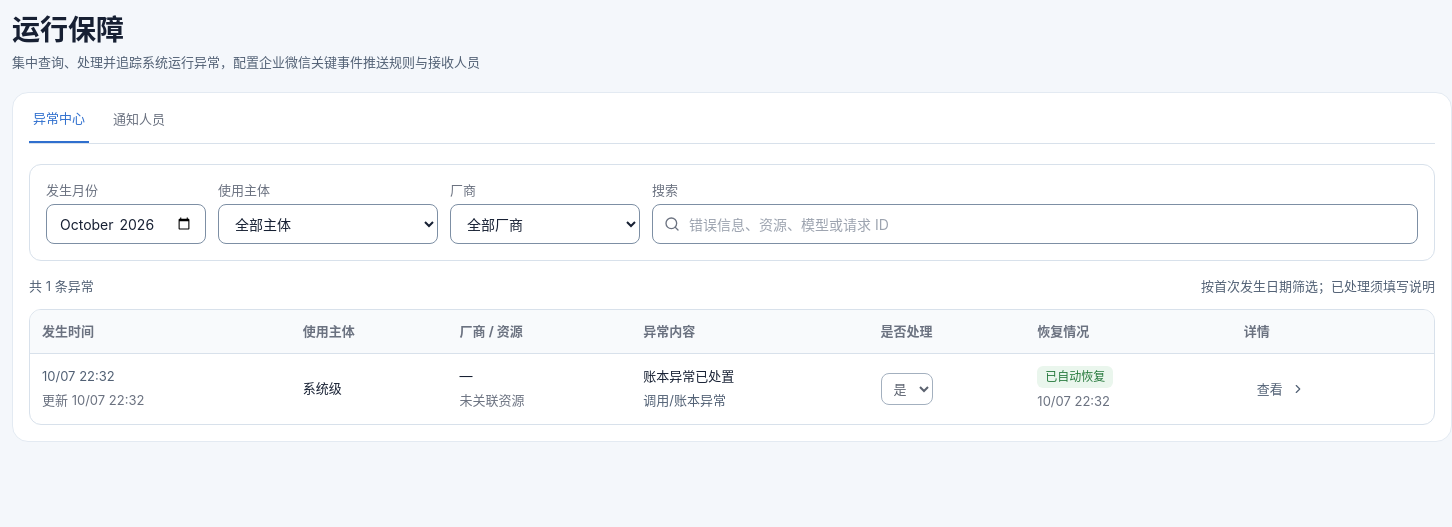
it: 运行保障异常中心 › 按月份、主体、厂商和搜索词组合筛选
Check: the text "资源凭证失效" is not shown
Select "未来医生" in the dropdown named "异常使用主体": (328, 224) [218,204,438,244]
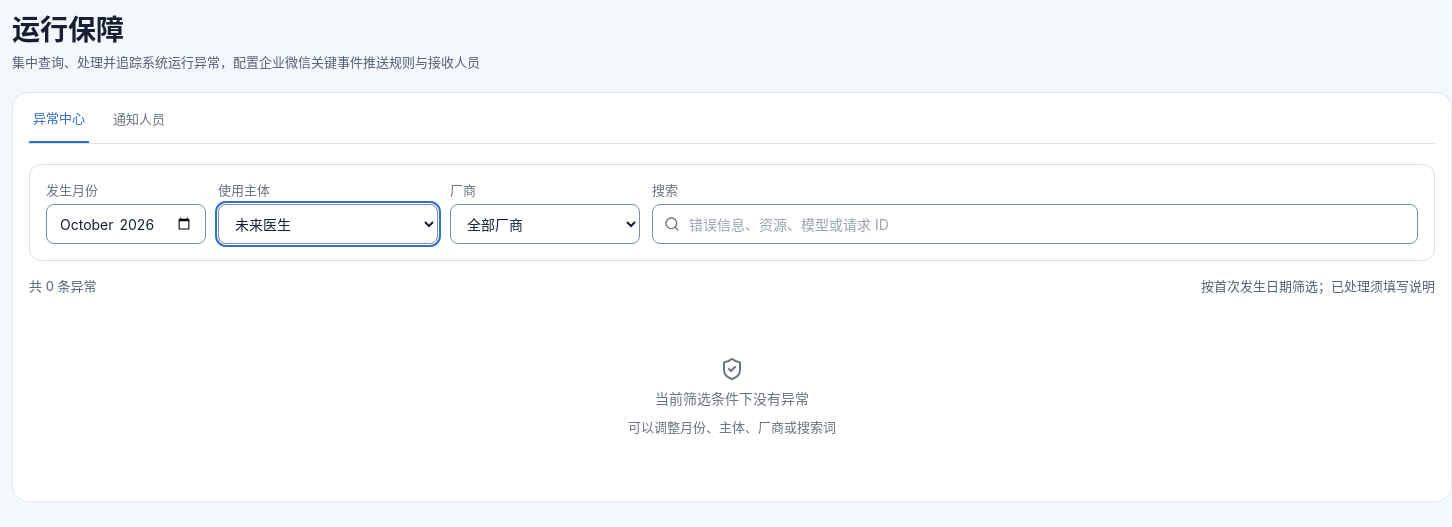
Check: the text "资源凭证失效" is not shown
Select "全部主体" in the dropdown named "异常使用主体": (328, 224) [218,204,438,244]
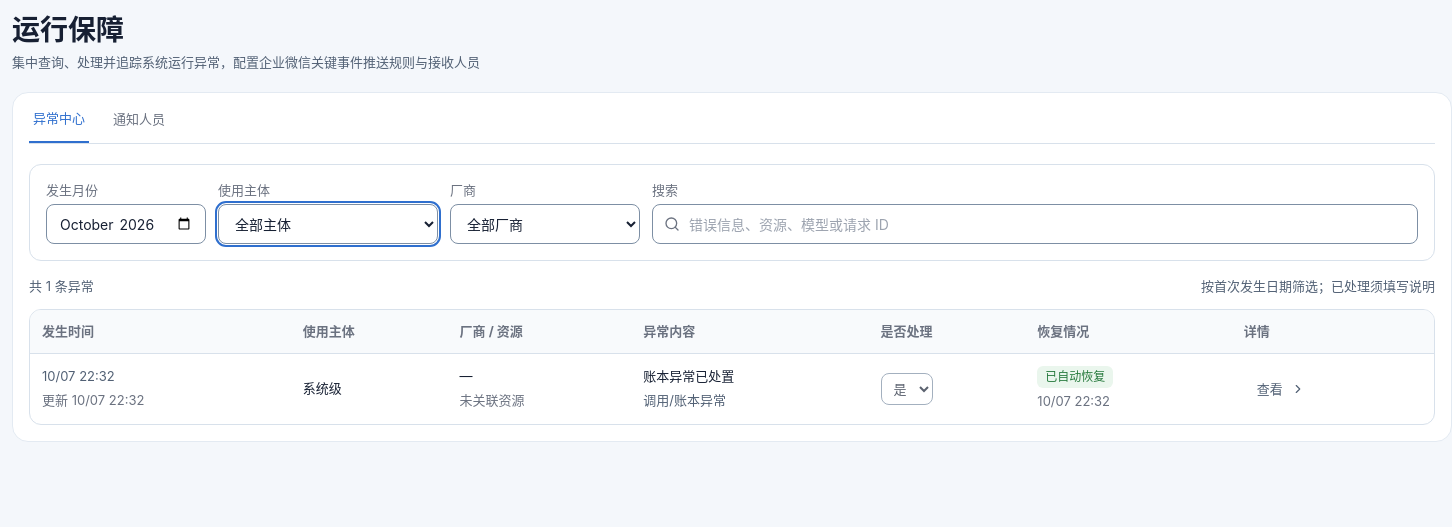
Replace the text in the field named "异常月份" with "2026-09": (126, 224) [46,204,206,244]
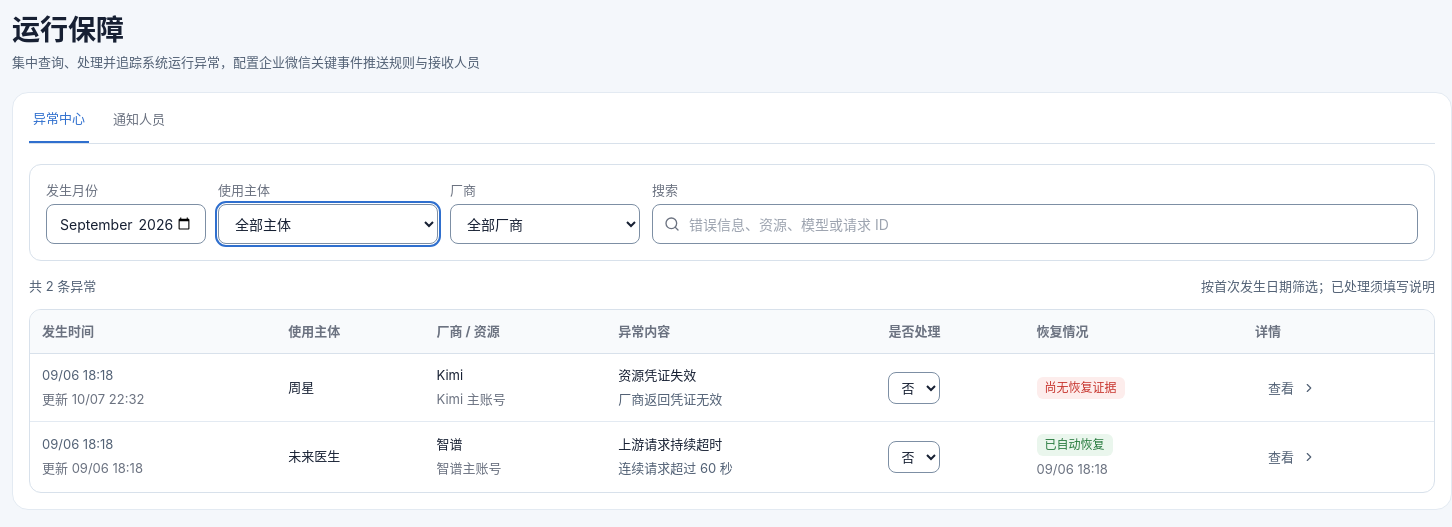
Check: the text "上游请求持续超时" is shown, box [618,436,722,452]
Select "Kimi" in the dropdown named "异常厂商": (545, 224) [450,204,640,244]
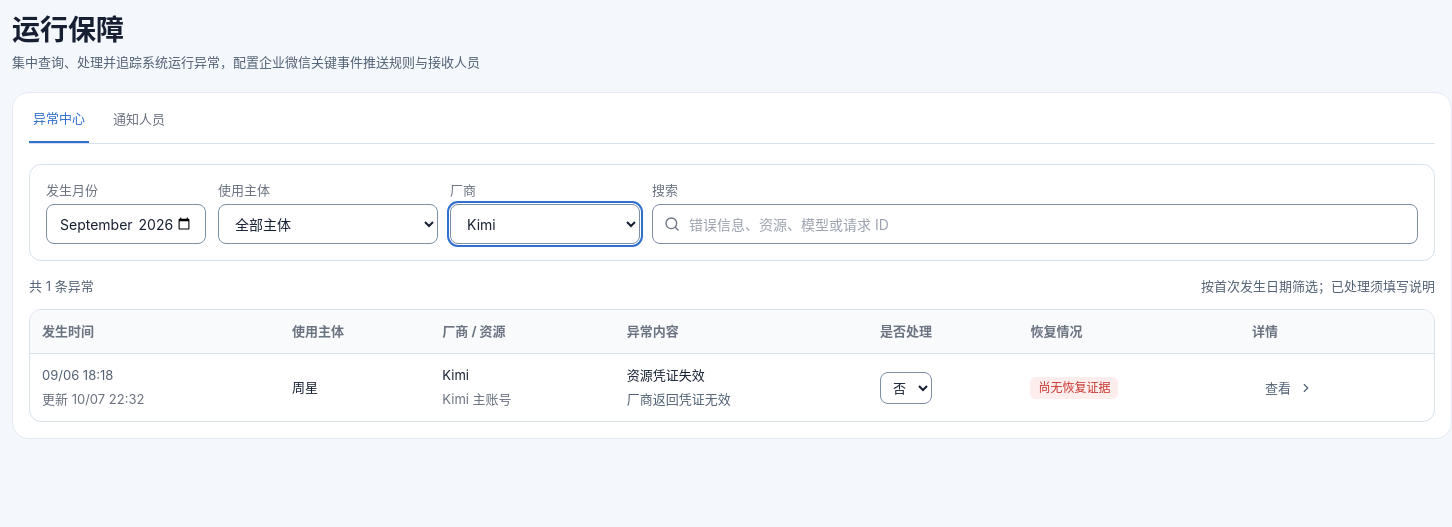
Check: the text "资源凭证失效" is shown, box [627,367,705,383]
In the search field named "搜索异常": (1035, 224) [652,204,1418,244], type "不存在的错误"
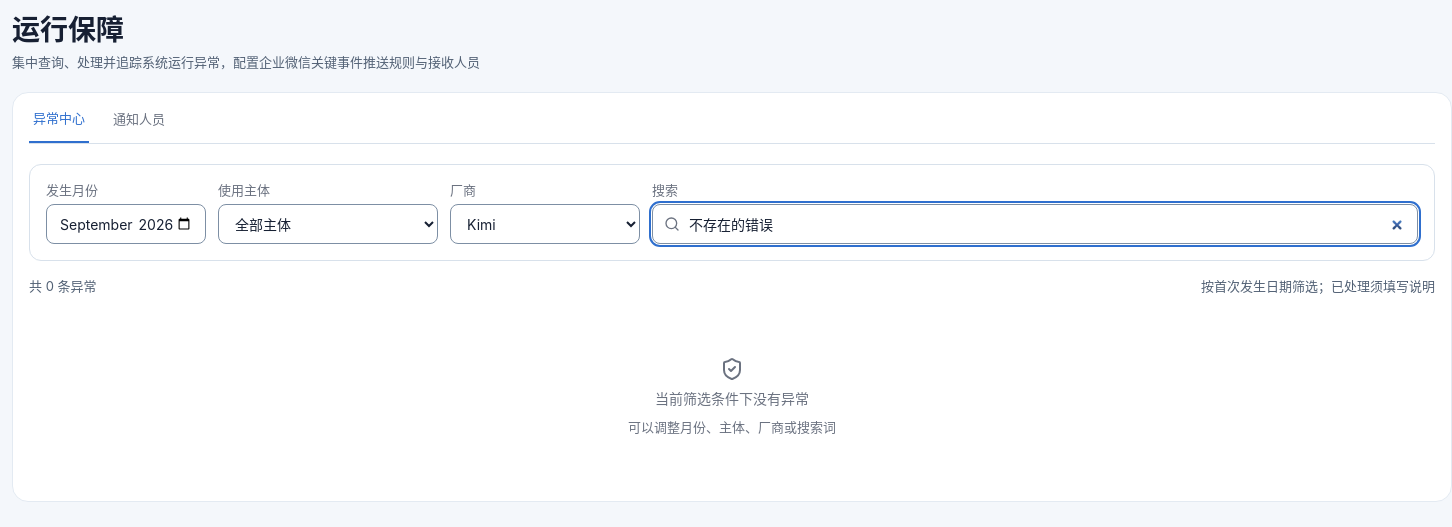
Check: the text "当前筛选条件下没有异常" is shown, box [655,388,809,408]
